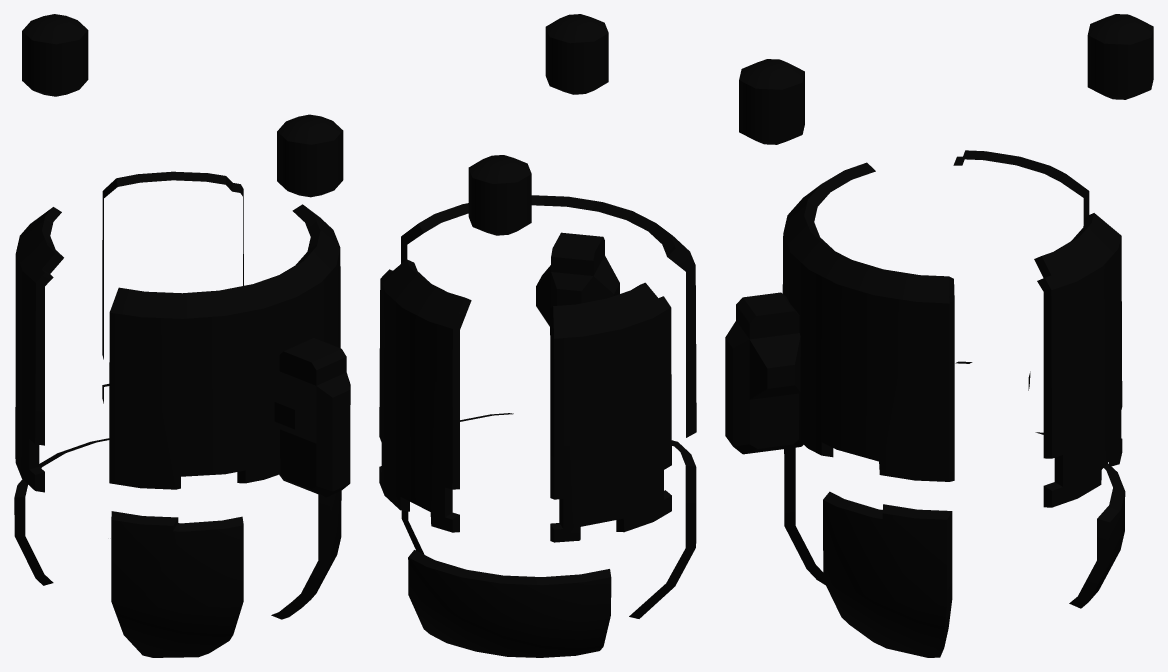
File: prop_static_tr1_container_01_08_0.glb
3 views of the same model, side by side, from view 1: azimuth 30°, elevation 25°; view 2: azimuth 150°, elevation 25°; view 3: azimuth 270°, elevation 25° (orthographic). The views are drawn at different scales.
Parts seen in each view (by area): view 1: tr1_container_01_08_mat01b_LOD0; view 2: tr1_container_01_08_mat01b_LOD0; view 3: tr1_container_01_08_mat01b_LOD0.
Part boxes in pixels (<box>): tr1_container_01_08_mat01b_LOD0: <box>14,14,350,657</box>; tr1_container_01_08_mat01b_LOD0: <box>379,14,696,657</box>; tr1_container_01_08_mat01b_LOD0: <box>725,14,1153,657</box>.
Size of what is drawn, in the model's own units: 2.73 by 5.06 by 3.45.
Materials: 1 (1 with a texture image).
